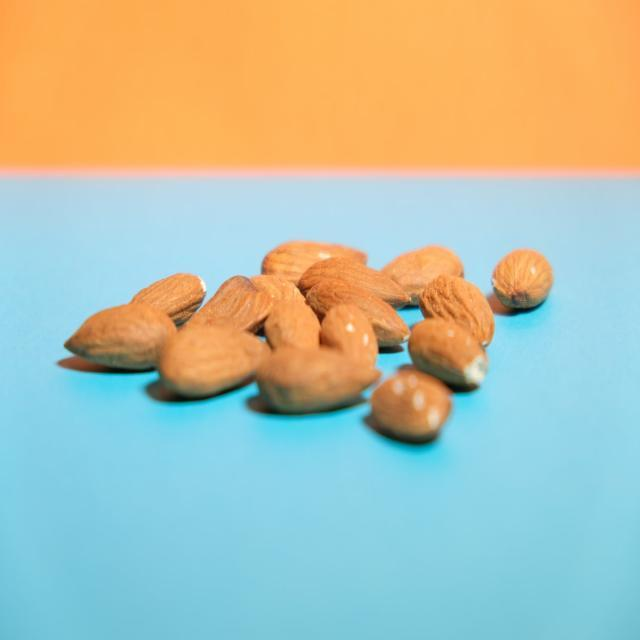almond: (68, 303, 170, 377), (257, 348, 380, 407), (168, 332, 270, 402), (365, 365, 453, 445), (295, 257, 410, 310), (418, 277, 490, 352), (190, 273, 277, 335), (130, 267, 207, 322), (492, 245, 550, 315), (258, 290, 320, 352), (315, 302, 378, 355)
